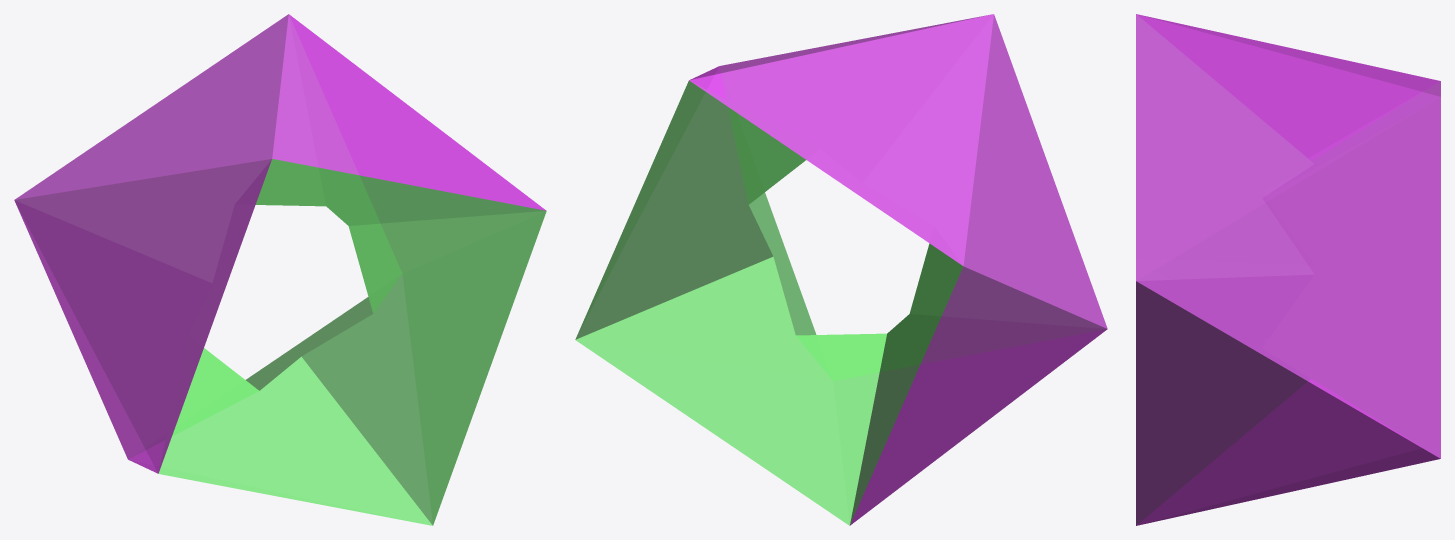
Rendered from TetragonalAntiprismTrapezohedronToroid.obj.
3 views of the same model, side by side, from view 1: azimuth 30°, elevation 25°; view 2: azimuth 150°, elevation 25°; view 3: azimuth 270°, elevation 25° (orthographic). The views are drawn at different scales.
Bounding box in the file's own units: 1.31 × 1.31 × 0.8408.
